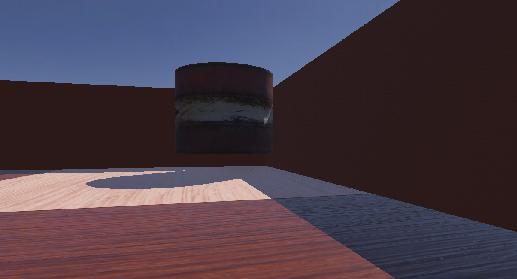OilBarrel: (167, 57, 292, 184)
